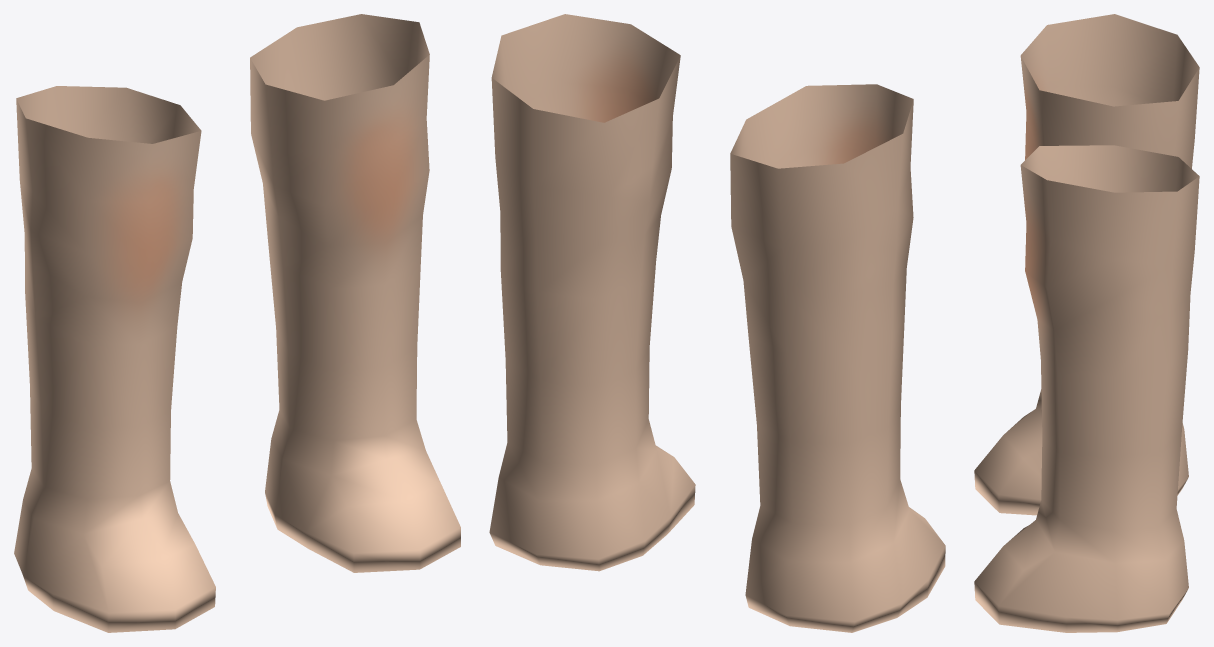
File: Body_White_LegB_1.fbx
3 renders of one model, left to right at view 1: azimuth 30°, elevation 25°; view 2: azimuth 150°, elevation 25°; view 3: azimuth 270°, elevation 25°, orthographic. The views are drawn at different scales.
Parts seen in each view (by area): view 1: Body_White_LegB_1; view 2: Body_White_LegB_1; view 3: Body_White_LegB_1.
Boxes of the visible parts, x1,y1,x2,y2 form: Body_White_LegB_1: [14, 14, 460, 632]; Body_White_LegB_1: [489, 14, 945, 632]; Body_White_LegB_1: [974, 14, 1199, 632].
Size of the model in its own units: 32.81 by 37.71 by 17.42.
